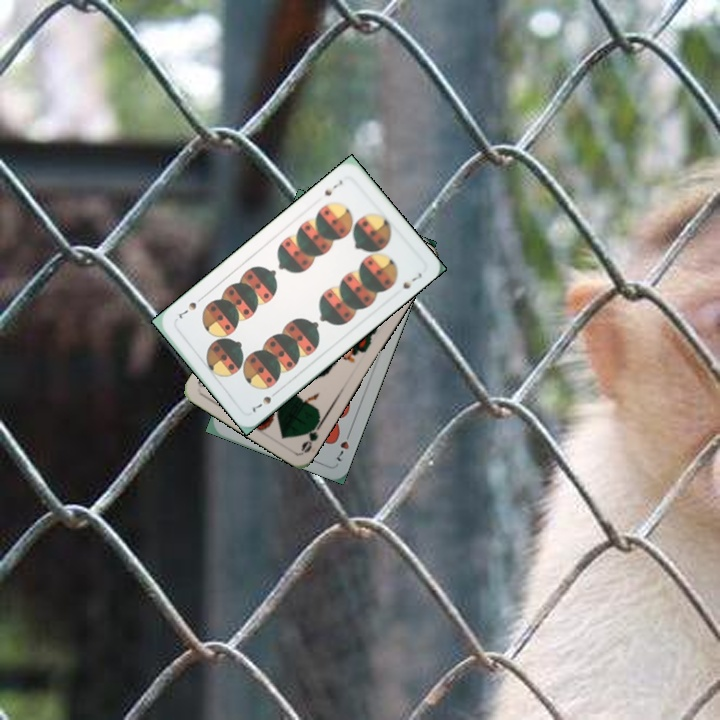GO: (297, 415, 325, 455)
H7: (332, 426, 354, 464)
S7: (246, 386, 281, 415), (320, 176, 345, 198)
